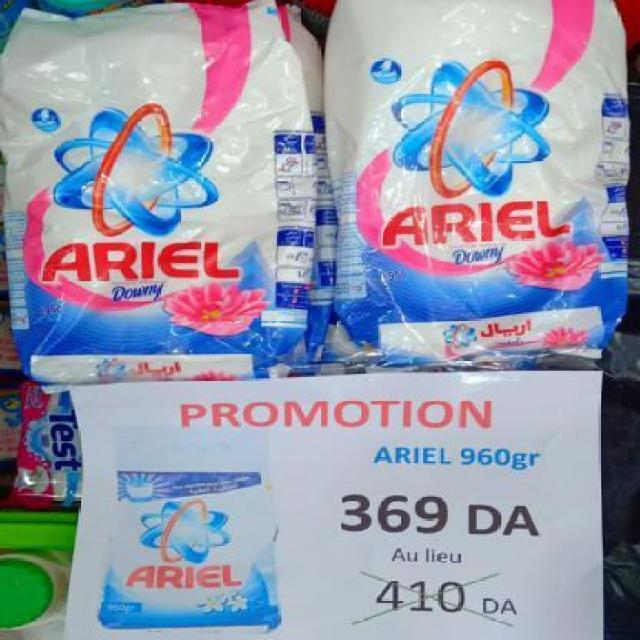Detergent: (0, 0, 323, 377), (316, 0, 628, 352)
